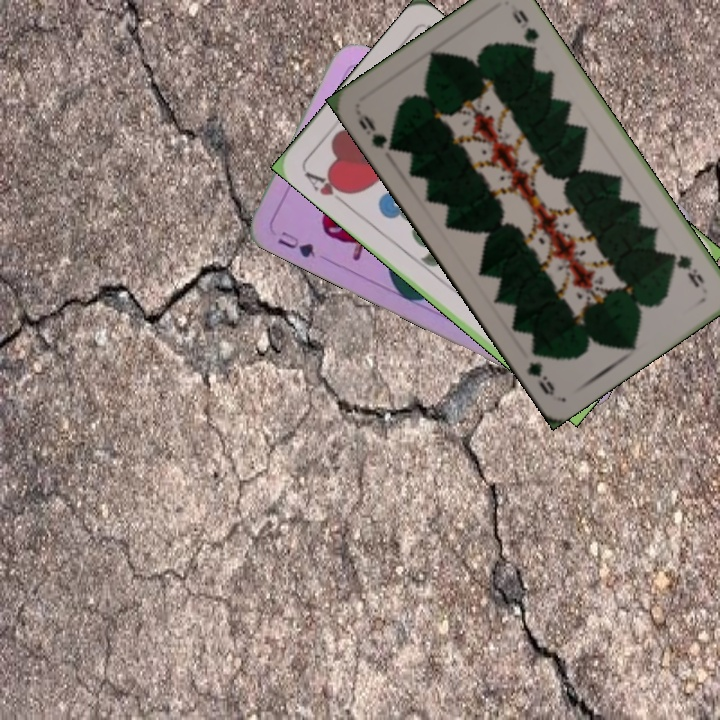G9: (352, 107, 400, 154), (665, 246, 707, 291)
GU: (273, 227, 318, 260)
HA: (300, 167, 355, 208)
